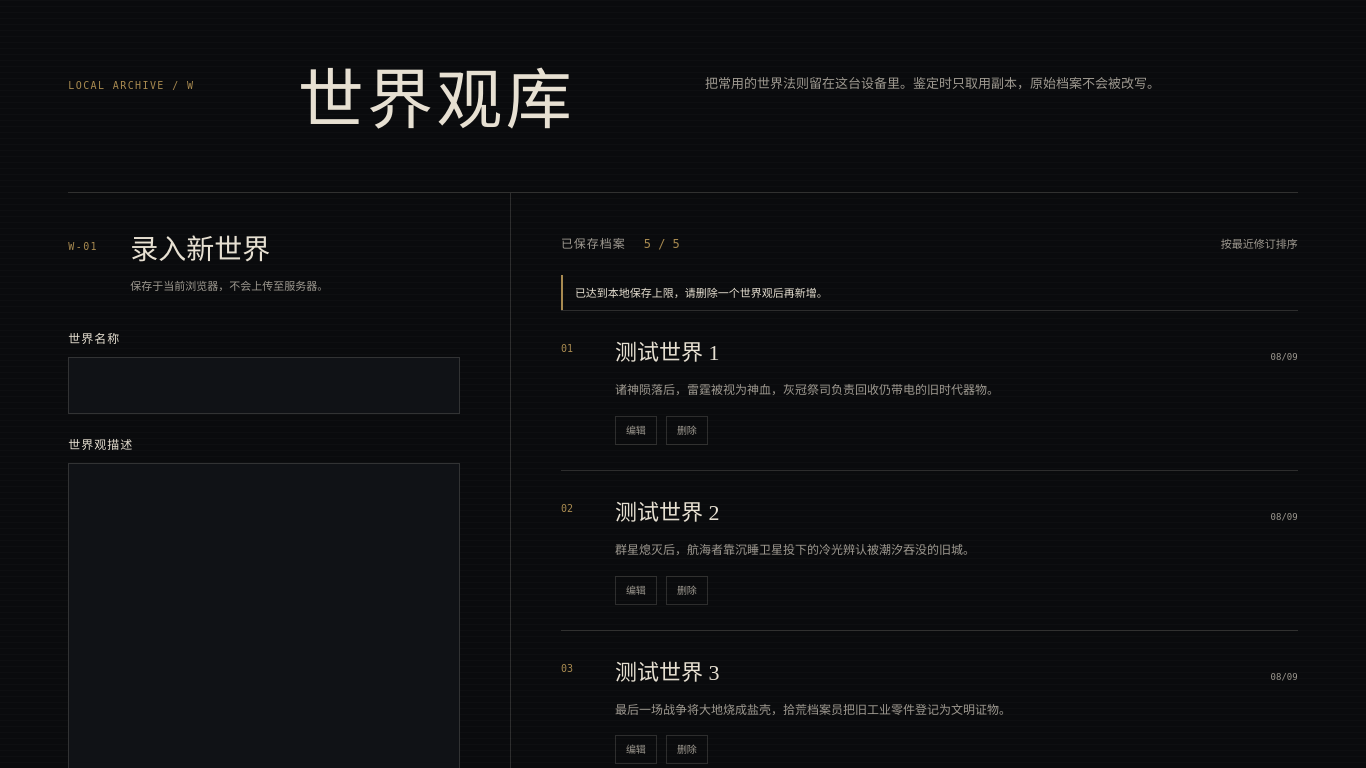
it: WorldManager › prevents a sixth world while allowing an existing one to be edited
Check: the text "5 / 5" is shown, box [644, 235, 680, 253]
Check: the text "已达到本地保存上限，请删除一个世界观后再新增。" is shown, box [561, 275, 1298, 310]
Click the button with aria-label "编辑 测试世界 1" at coordinates (636, 430), box [615, 416, 657, 445]
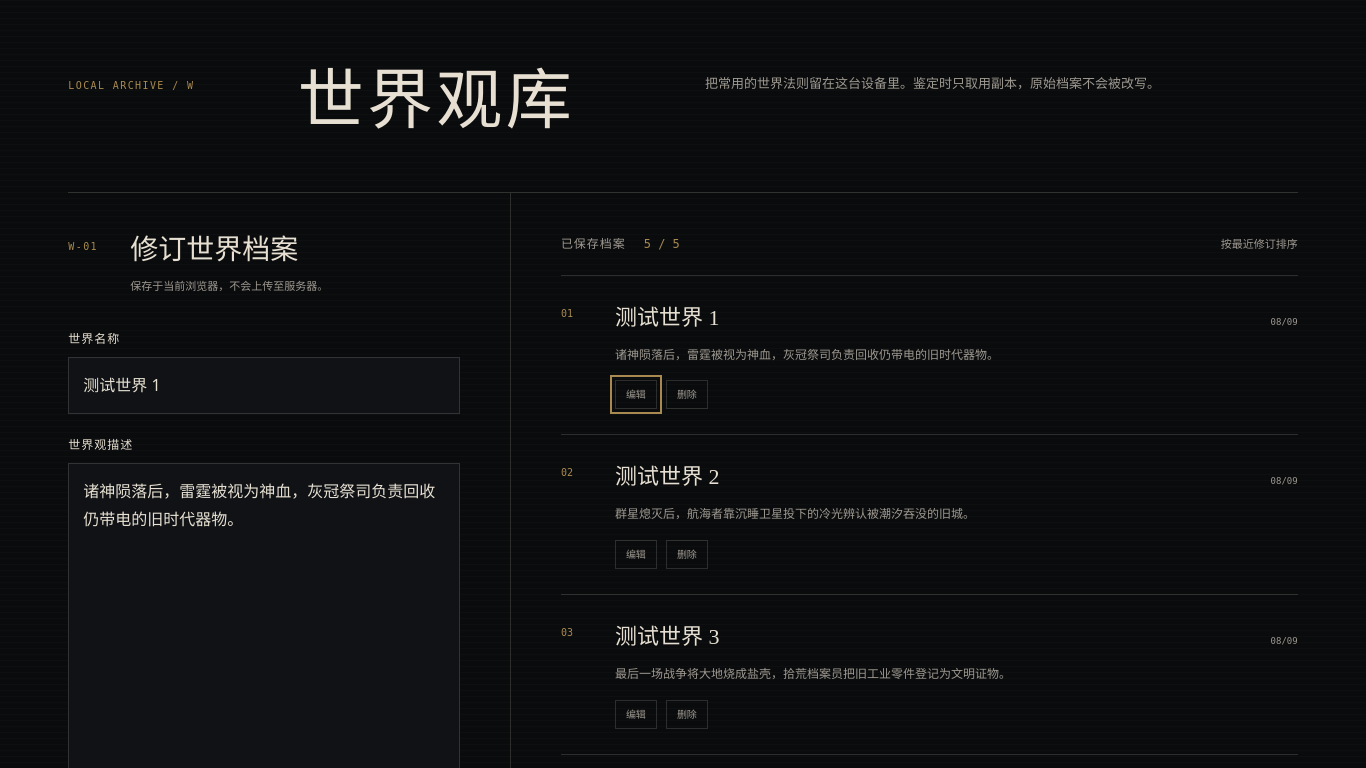
Replace the text in the field labelled "世界名称" with "第一世界修订版" at coordinates (264, 385), box [68, 357, 460, 414]
(page scrolled)
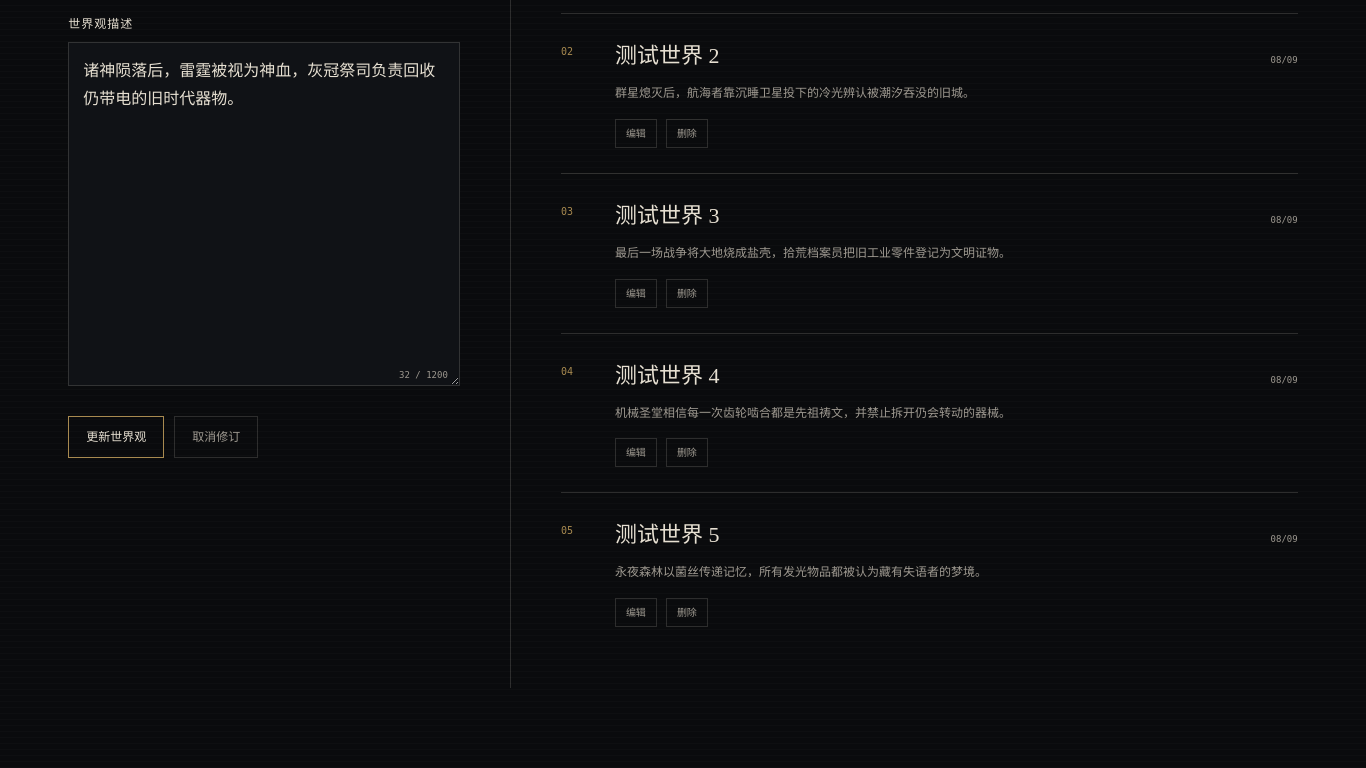
Click the button "更新世界观" at coordinates (116, 437), box [68, 416, 164, 458]
(page scrolled)
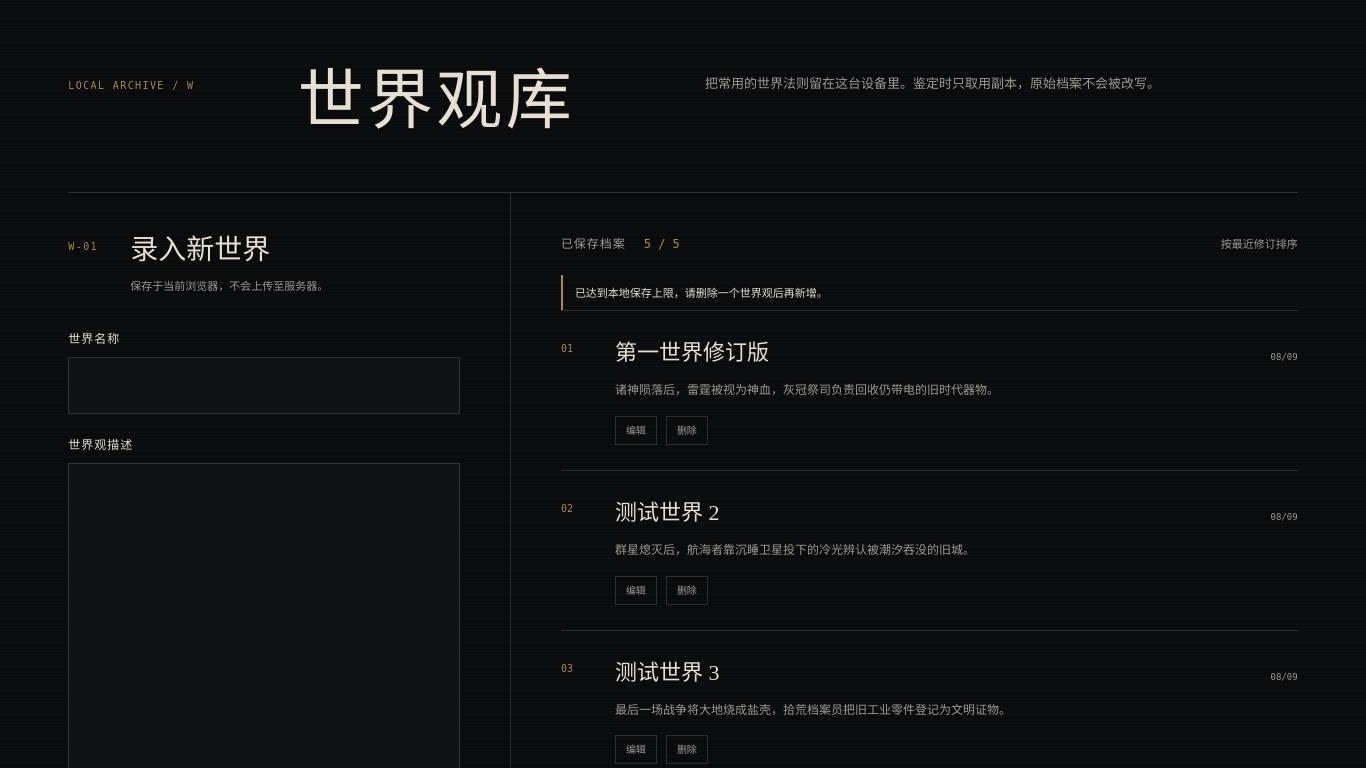
Check: the text "5 / 5" is shown, box [644, 235, 680, 253]
Check: the heading "第一世界修订版" is shown, box [615, 336, 769, 369]
